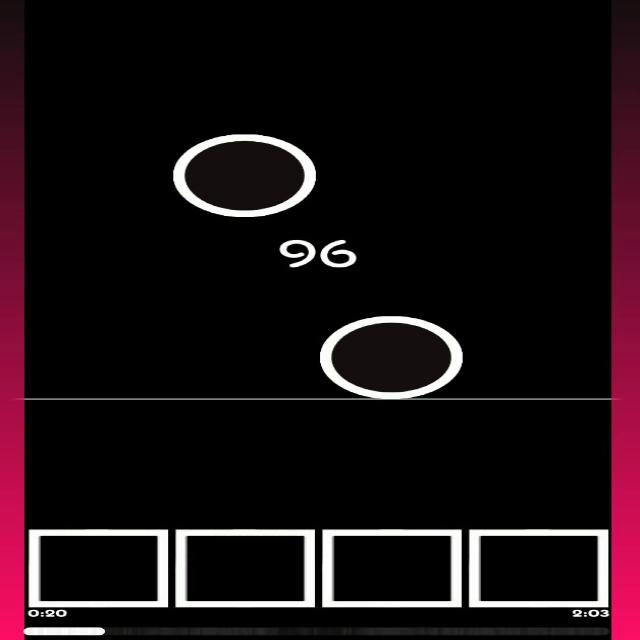note: (318, 311, 466, 403), (171, 132, 316, 219)
